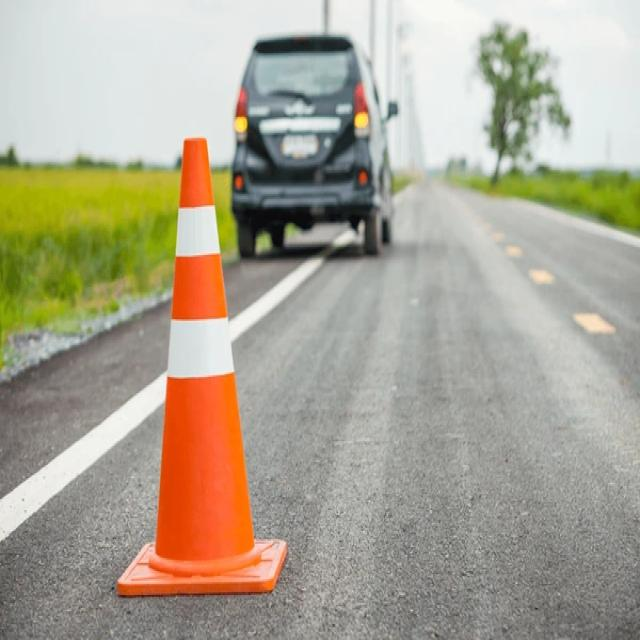Traffic Cone: (104, 98, 299, 615)
